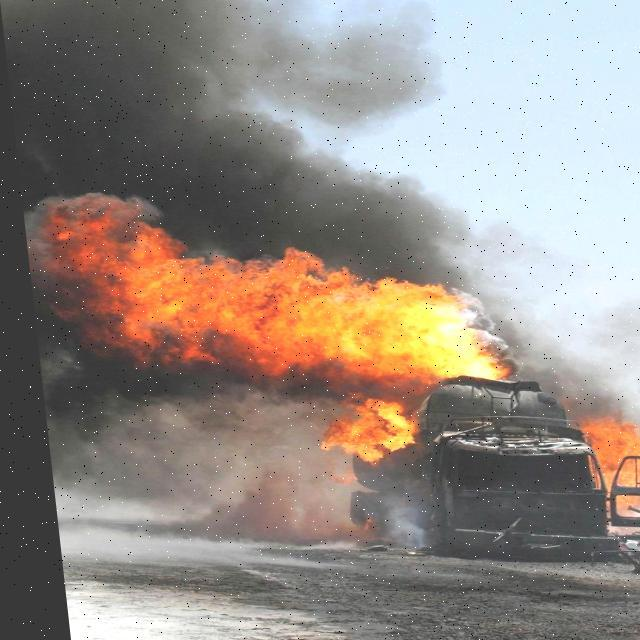Fire: (50, 190, 523, 460), (566, 418, 639, 530)
